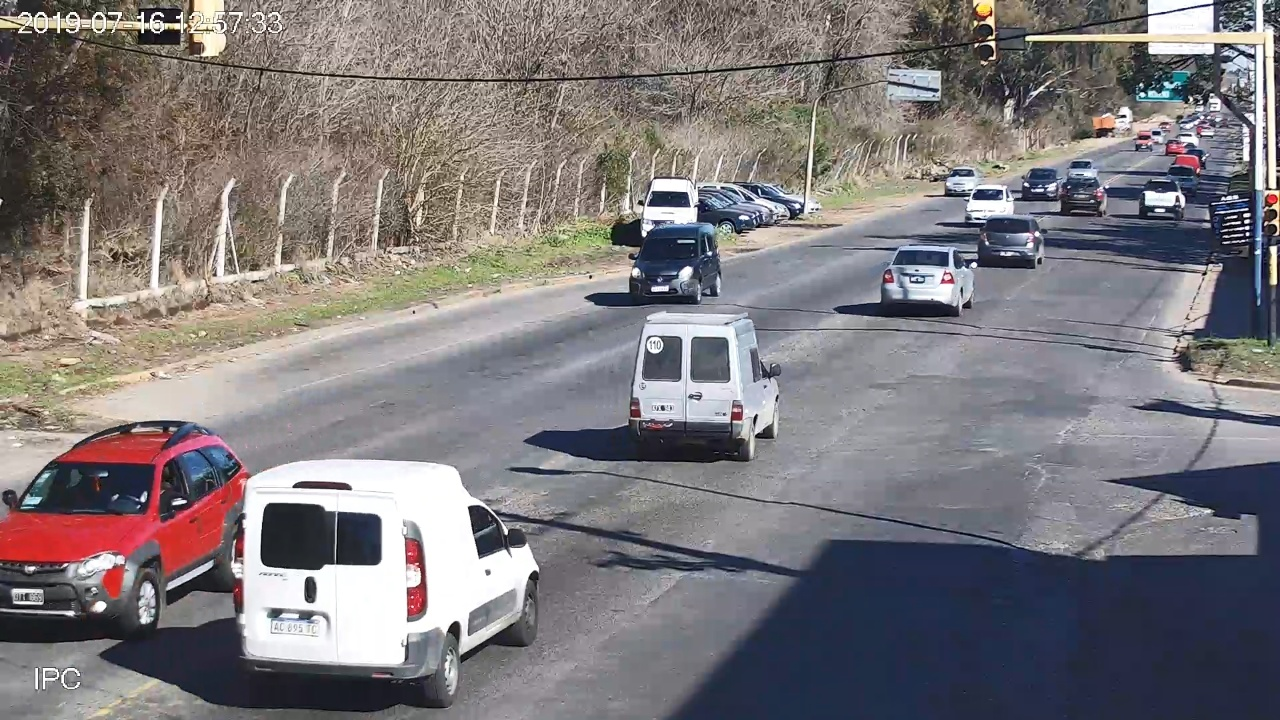car: (234, 458, 541, 720), (629, 315, 781, 460)
traffic light: (974, 1, 997, 60), (1264, 190, 1278, 236)
